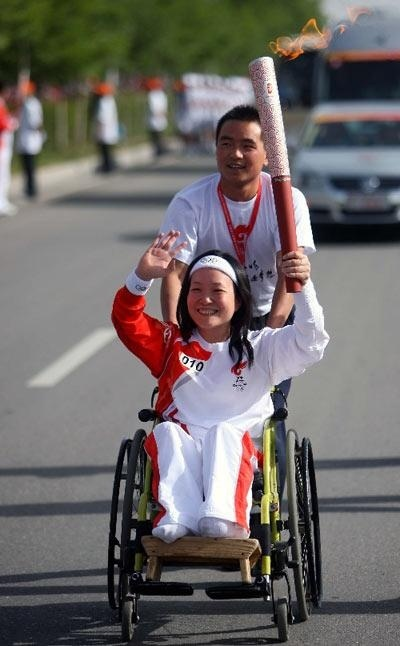fire: (274, 13, 334, 59)
